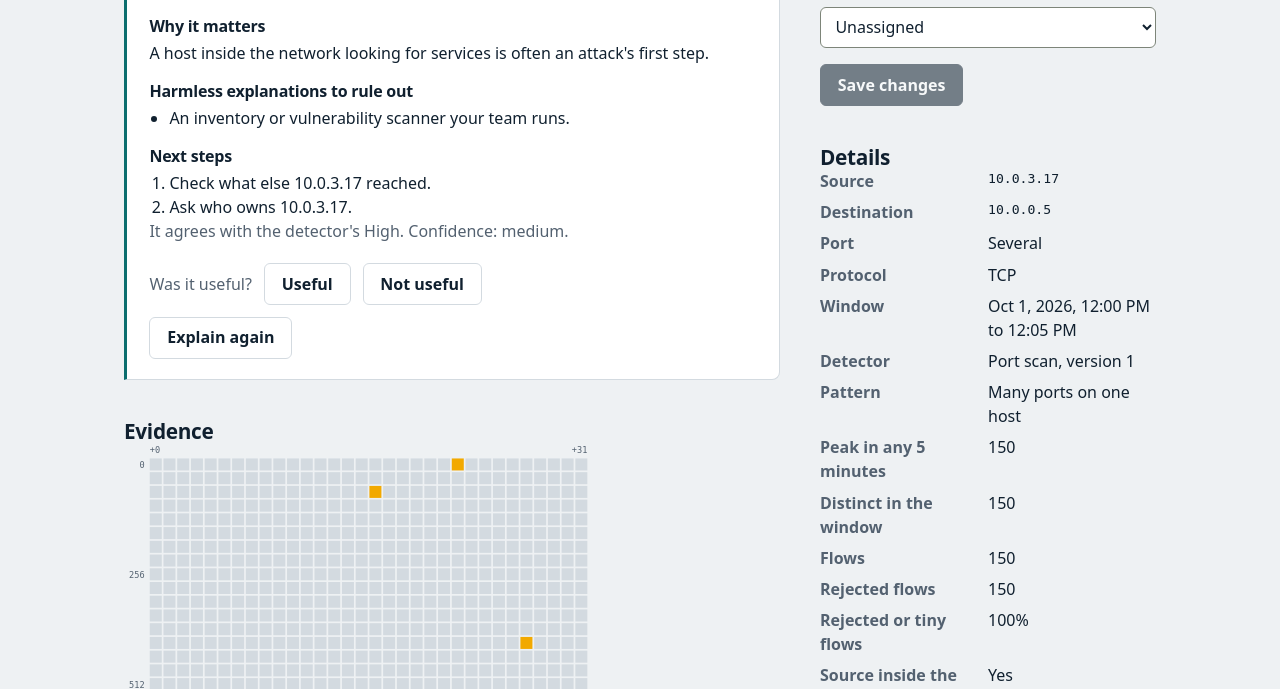
Test: asking again when nothing changed shows the same answer, at no cost
(page scrolled)
Click the button "Explain again". click: (221,338)
box: 149,317 -> 292,359
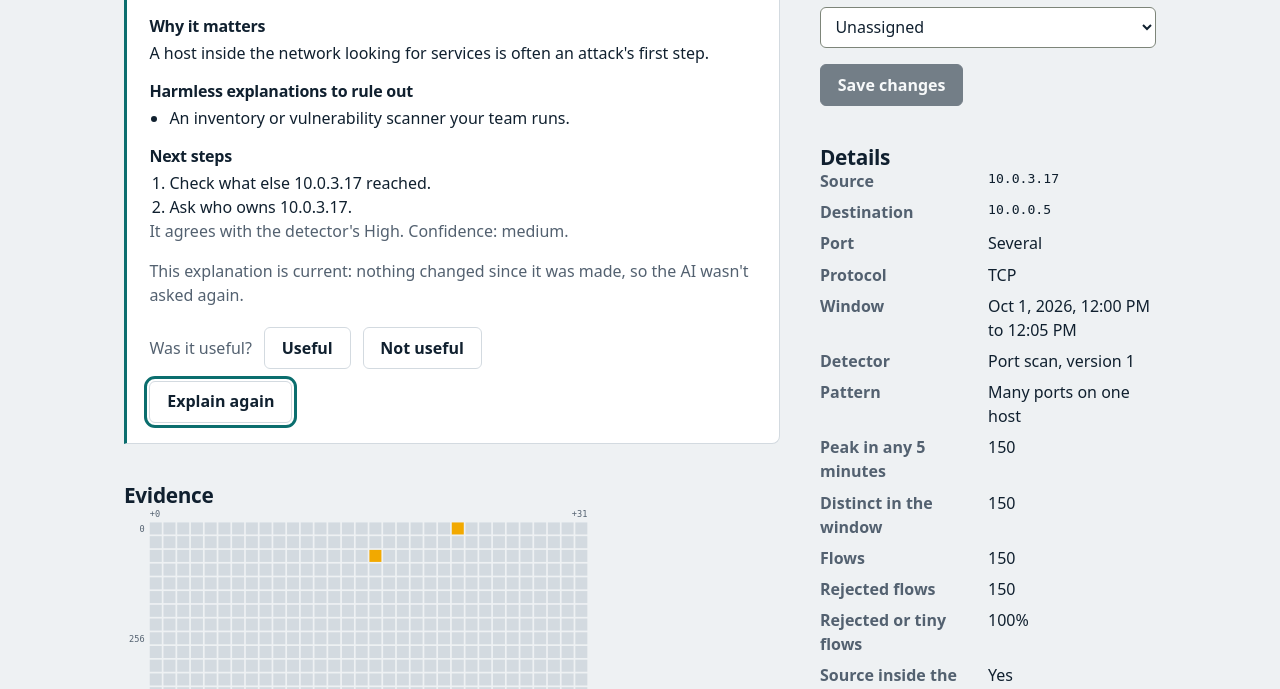
Check: the text "This explanation is current: nothing changed since it was made, so the AI wasn't asked again." is shown, box 149,260 -> 749,306
